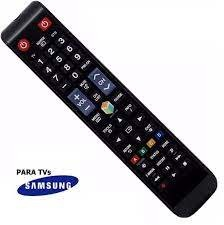remote control: (0, 2, 191, 162)
